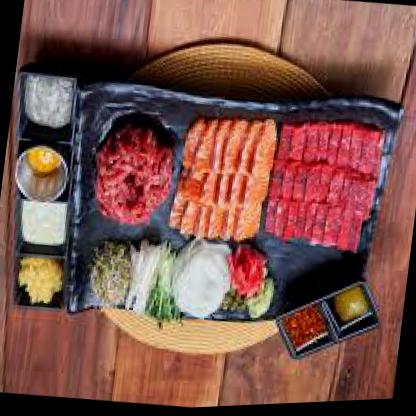Korean style raw beef: (261, 119, 383, 259), (86, 123, 175, 229)
